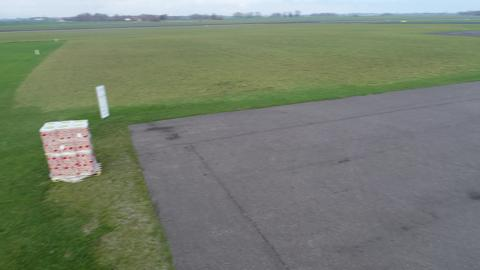RockwoolPallet: (39, 118, 98, 181)
